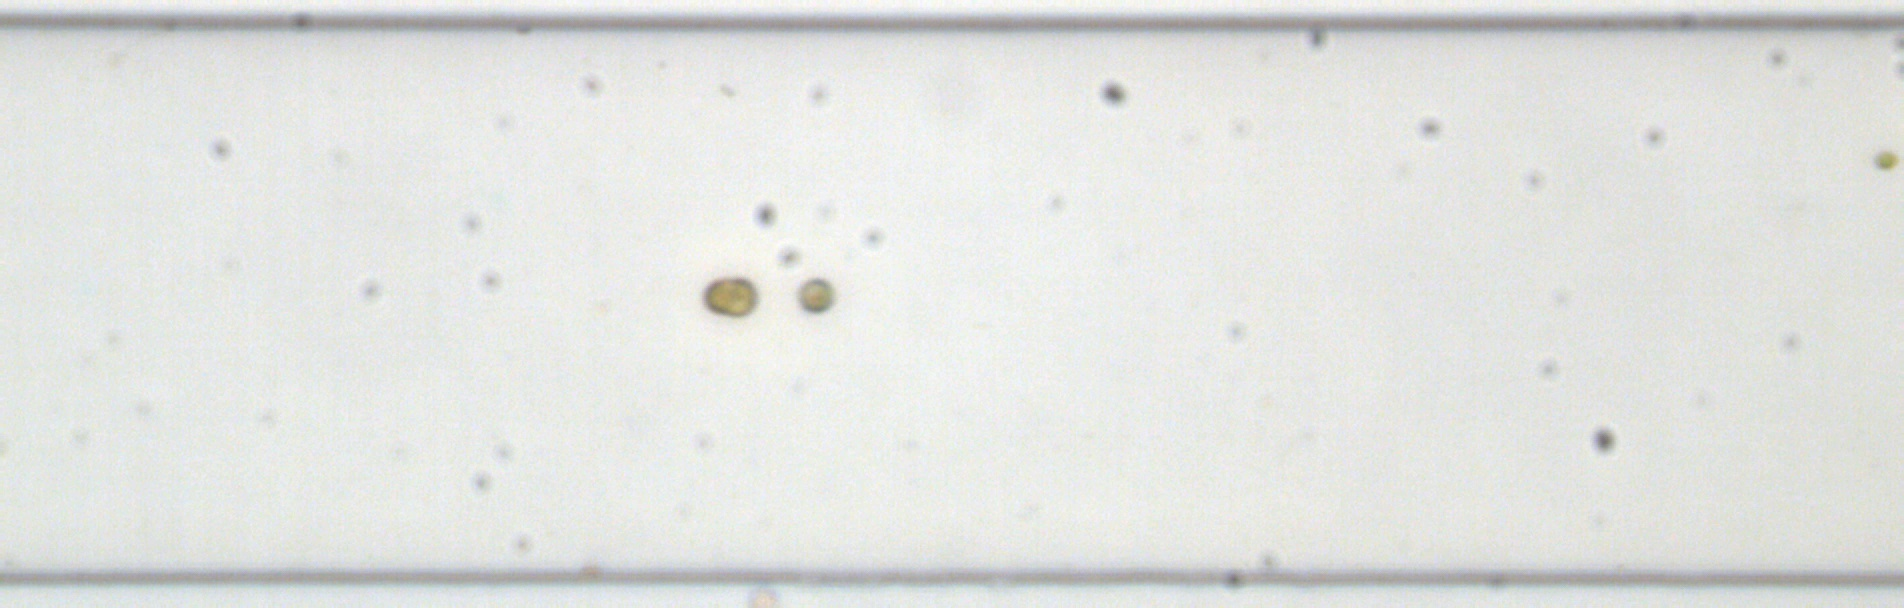Chlorella: (1871, 149, 1897, 175)
Dunaliella salina: (795, 275, 837, 314)
Effrenium: (699, 273, 760, 320)
